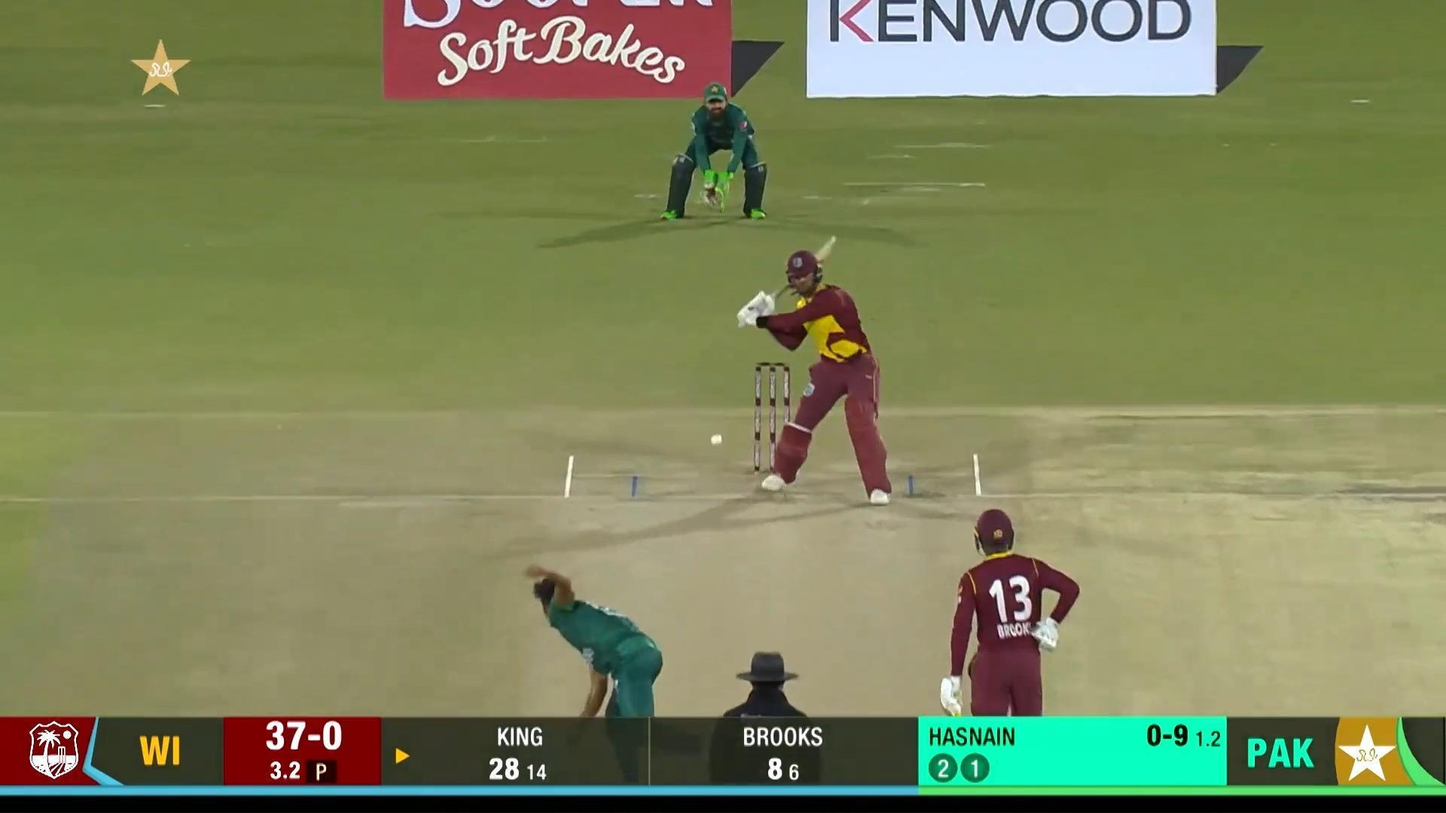BM 1: (737, 235, 892, 505)
BO: (522, 560, 722, 803)
